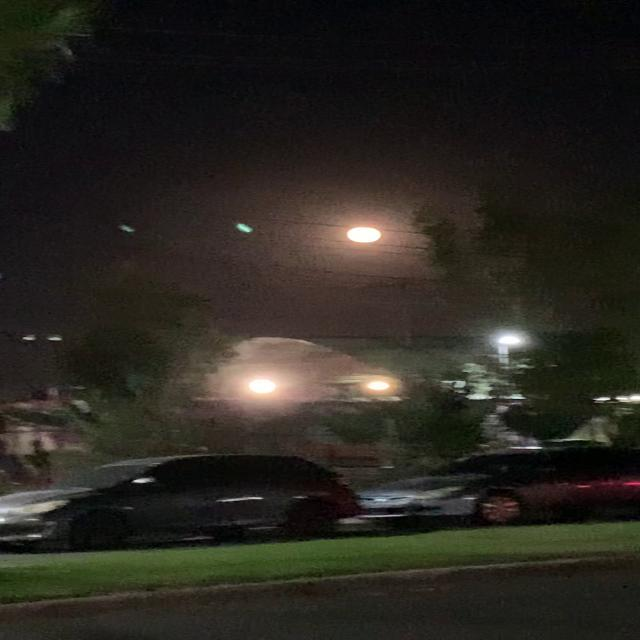moon: (342, 226, 396, 251)
